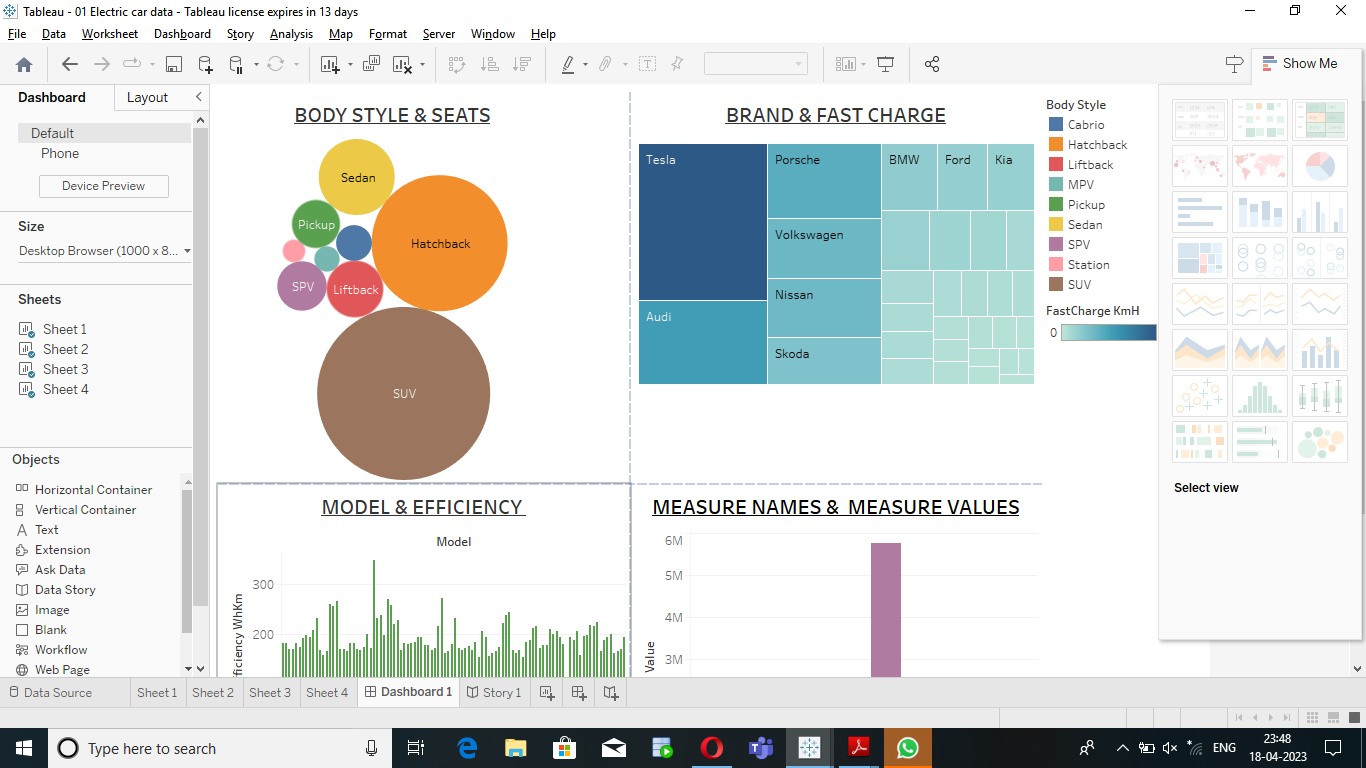

The dashboard page shown, as its layout file describes it:
{"tool":"tableau","page":{"name":"Dashboard 1","canvas":[1000,800],"ordinal":0},"visuals":[{"type":"worksheet","title":"Sheet 1","mark":"Circle","box":[8,8,412,392]},{"type":"worksheet","title":"Sheet 2","mark":"Automatic","box":[420,8,412,392]},{"type":"legend","title":"Sheet 1","param":"[federated.0c5j5a3098dc3z1cb217b0vfguuj].[none:BodyStyle:nk]","box":[832,8,160,206]},{"type":"legend","title":"Sheet 2","param":"[federated.0c5j5a3098dc3z1cb217b0vfguuj].[sum:FastCharge_KmH:qk]","box":[832,214,160,65]},{"type":"worksheet","title":"Sheet 3","mark":"Automatic","rows":["Efficiency_WhKm"],"cols":["Model"],"box":[8,400,412,392]},{"type":"worksheet","title":"Sheet 4","mark":"Automatic","box":[420,400,412,392]}]}

Visuals, with their boxes on the page's 1000x800 design canvas (x1, y1, x2, y2). These are canvas units, not pixel positions in the 1366x768 screenshot, which may show the page scaled, cropped or inside an application window:
"Sheet 1" worksheet (Circle marks): Rect(8, 8, 420, 400)
"Sheet 2" worksheet: Rect(420, 8, 832, 400)
"Sheet 1" legend: Rect(832, 8, 992, 214)
"Sheet 2" legend: Rect(832, 214, 992, 279)
"Sheet 3" worksheet: Rect(8, 400, 420, 792)
"Sheet 4" worksheet: Rect(420, 400, 832, 792)
